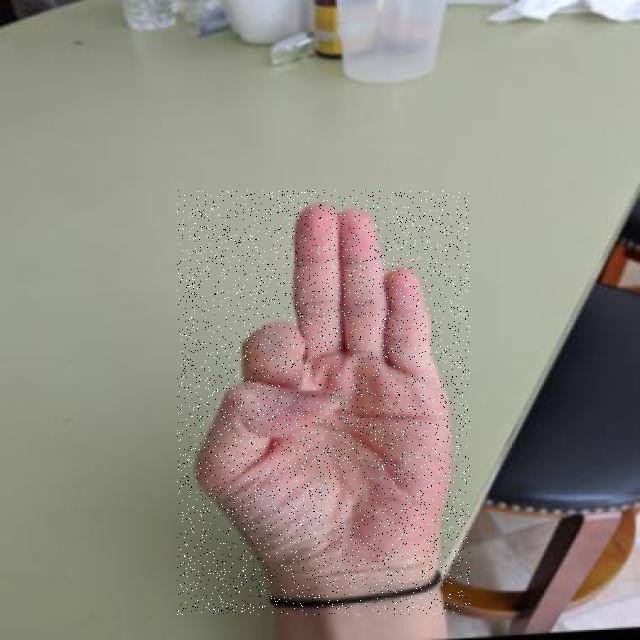F: (177, 190, 470, 615)
